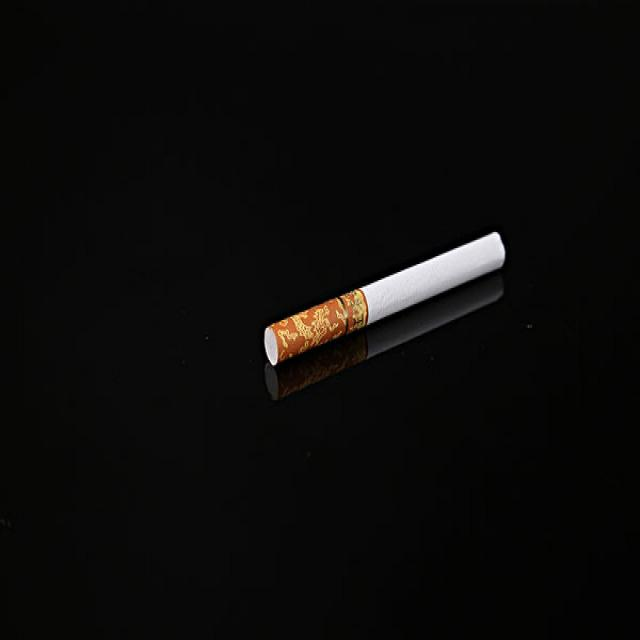smoking: (264, 227, 504, 369)
